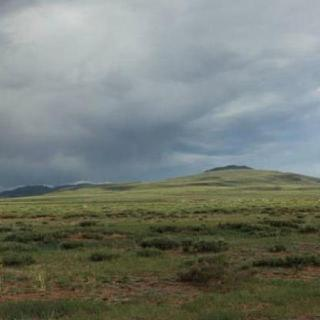Nimbostratus: (0, 0, 320, 182)
